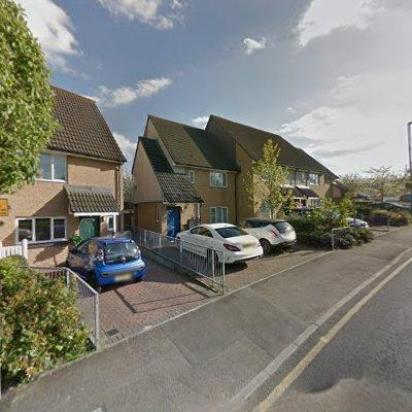stationary-car-offstreet: (65, 235, 145, 289), (177, 223, 263, 267), (236, 215, 298, 256), (327, 209, 370, 230), (366, 202, 412, 215)
